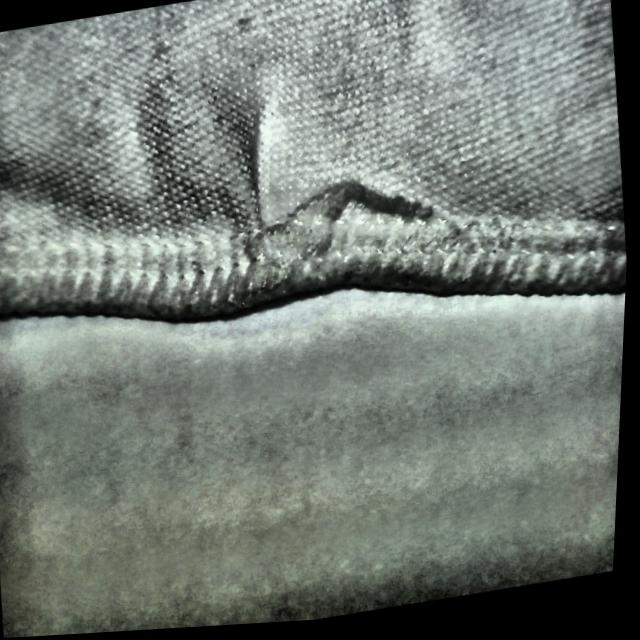seam: (190, 85, 448, 325)
